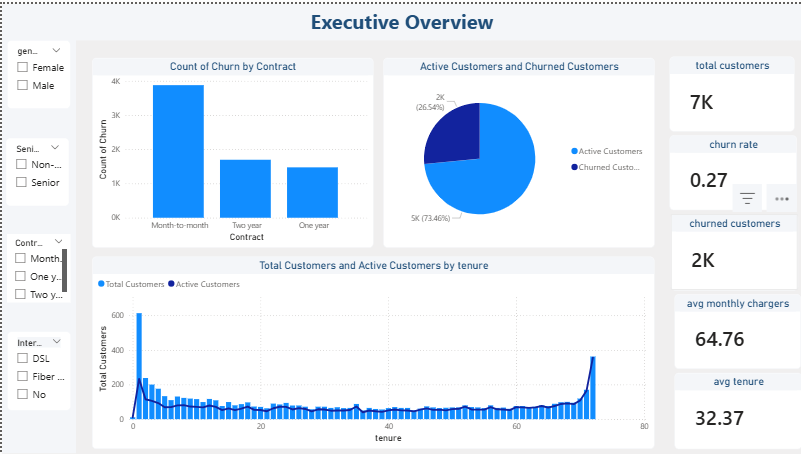

What the dashboard file says about the page in this screenshot:
{"tool":"powerbi","page":{"name":"Executive Overview","canvas":[1280,720],"ordinal":0},"visuals":[{"type":"textbox","box":[0,0,1280,58.4],"z":0},{"type":"cardVisual","title":"total customers","fields":{"Data":["Table.Total Customers"]},"box":[1068,84,200,120],"z":1000},{"type":"cardVisual","title":"churn rate","fields":{"Data":["Table.Churn Rate"]},"box":[1067,210,204,120],"z":2000},{"type":"cardVisual","title":"churned customers","fields":{"Data":["Table.Churned Customers"]},"box":[1070,336,204,122],"z":3000},{"type":"cardVisual","title":"avg monthly chargers ","fields":{"Data":["Table.Avg Monthly Charges"]},"box":[1076,464,202,120],"z":4000},{"type":"cardVisual","title":"avg tenure","fields":{"Data":["Table.Avg Tenure"]},"box":[1076,590,204,122],"z":5000},{"type":"pieChart","fields":{"Y":["Table.Active Customers","Table.Churned Customers"]},"box":[610,86,434,304],"z":6000},{"type":"columnChart","fields":{"Y":["CountNonNull(churn_cleaned.Churn)"],"Category":["churn_cleaned.Contract"]},"box":[144,86,450,304],"z":7000},{"type":"lineClusteredColumnComboChart","fields":{"Category":["churn_cleaned.tenure"],"Y":["Table.Total Customers"],"Y2":["Table.Active Customers"]},"box":[144,404,900,308],"z":9000},{"type":"textbox","box":[0,10.5,118.7,708.8],"z":10000},{"type":"slicer","fields":{"Values":["churn_cleaned.gender"]},"box":[7.3,57.6,101.3,110],"z":11000},{"type":"slicer","fields":{"Values":["churn_cleaned.SeniorCitizen"]},"box":[7,213.1,101.3,110],"z":12000},{"type":"slicer","fields":{"Values":["churn_cleaned.Contract"]},"box":[8.7,368.5,101.3,110],"z":13000},{"type":"slicer","fields":{"Values":["churn_cleaned.InternetService"]},"box":[7.7,524,102,126],"z":14000}]}

Visuals, with their boxes in screenshot pixels (x1, y1, x2, y2), scaled from the page's 1280x720 canvas onto the 801x454 screenshot:
textbox: BBox(0, 0, 800, 37)
"total customers" cardVisual: BBox(668, 53, 793, 129)
"churn rate" cardVisual: BBox(668, 132, 795, 208)
"churned customers" cardVisual: BBox(670, 212, 797, 289)
"avg monthly chargers " cardVisual: BBox(673, 293, 800, 368)
"avg tenure" cardVisual: BBox(673, 372, 800, 449)
pieChart - Table.Active Customers x Table.Churned Customers: BBox(382, 54, 653, 246)
columnChart - CountNonNull(churn_cleaned.Churn) x churn_cleaned.Contract: BBox(90, 54, 372, 246)
lineClusteredColumnComboChart - churn_cleaned.tenure x Table.Total Customers: BBox(90, 255, 653, 449)
textbox: BBox(0, 7, 74, 453)
slicer - churn_cleaned.gender: BBox(5, 36, 68, 106)
slicer - churn_cleaned.SeniorCitizen: BBox(4, 134, 68, 204)
slicer - churn_cleaned.Contract: BBox(5, 232, 69, 302)
slicer - churn_cleaned.InternetService: BBox(5, 330, 69, 410)
